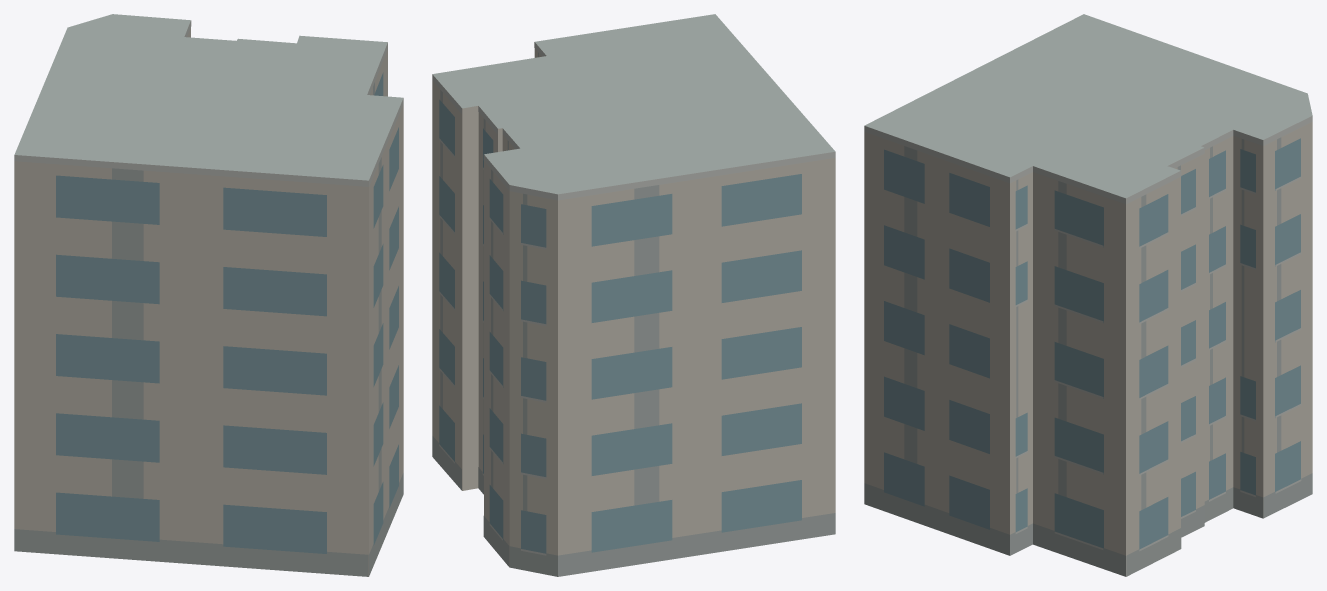
Rendered from survey-upis-32847815.glb.
3 views of the same model, side by side, from view 1: azimuth 30°, elevation 25°; view 2: azimuth 150°, elevation 25°; view 3: azimuth 270°, elevation 25° (orthographic). The views are drawn at different scales.
Parts seen in each view (by area): view 1: survey-upis-32847815.tmp; view 2: survey-upis-32847815.tmp; view 3: survey-upis-32847815.tmp.
Boxes of the visible parts, x1,y1,x2,y2 form: survey-upis-32847815.tmp: (14,14,403,576); survey-upis-32847815.tmp: (432,14,835,576); survey-upis-32847815.tmp: (864,14,1312,576).
Bounding box in the file's own units: 16 × 15.3 × 16.44.
